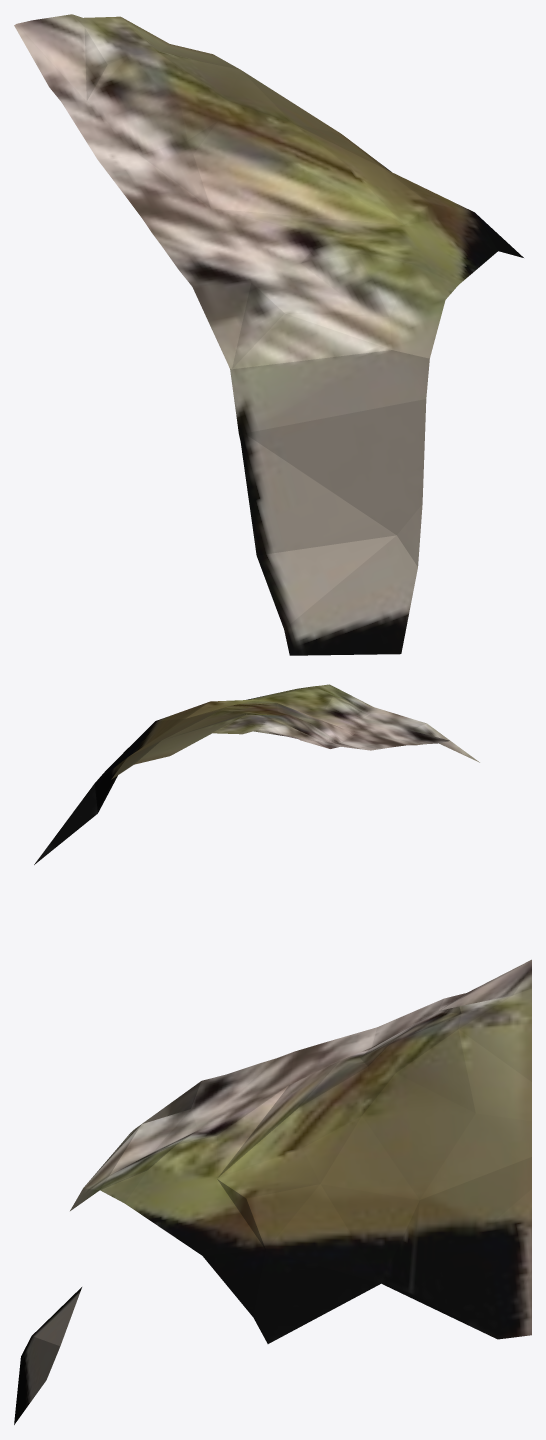
3 views of the same model, one above another, from view 1: azimuth 30°, elevation 25°; view 2: azimuth 150°, elevation 25°; view 3: azimuth 270°, elevation 25° (orthographic). The views are drawn at different scales.
Size of the model in its own units: 2.46 by 2.82 by 3.17.
1 material, 1 textured.
